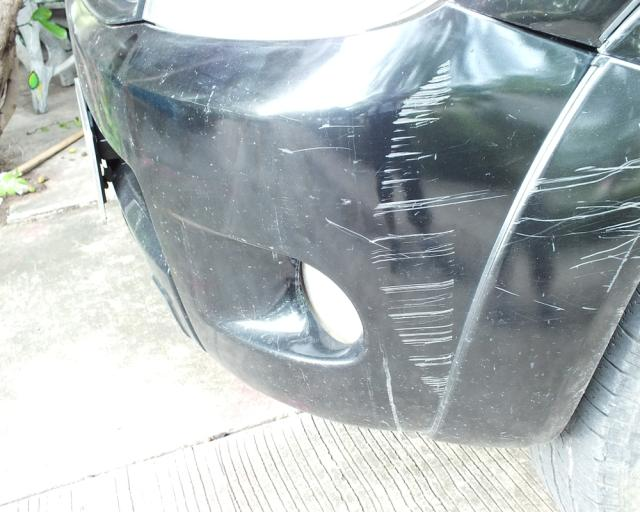scratch: (370, 54, 504, 404), (490, 149, 640, 316)
